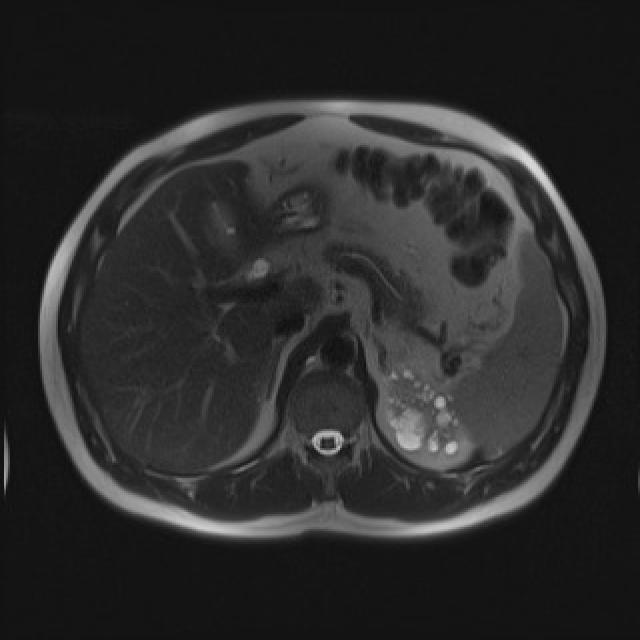sol: (384, 365, 464, 461)
